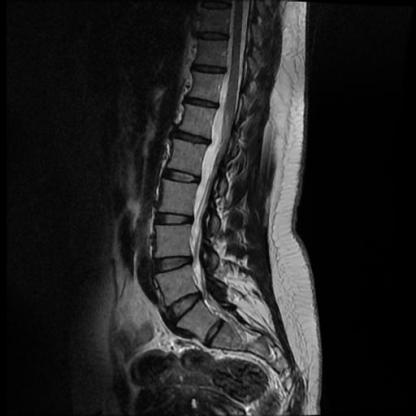Annular Disc Relaxationrotation: (166, 293, 207, 321), (196, 320, 232, 340)
Degenerative Disc Diseaserotation: (166, 293, 207, 322), (196, 319, 231, 340), (166, 170, 201, 186)
Disc Bulgerotation: (165, 170, 200, 186)
